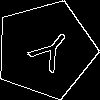Y: (20, 24, 77, 81)
